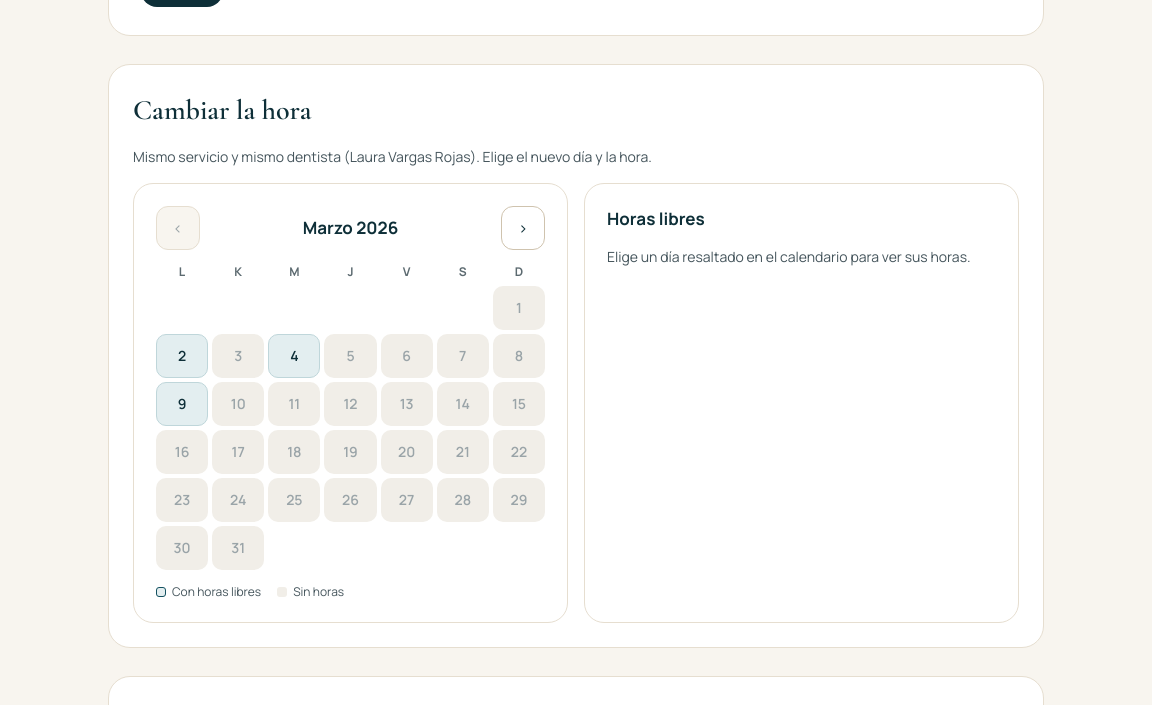
Scenario: Gestión de la cita por enlace › reprogramar con 400 muestra el mensaje
(page scrolled)
Click the button named "lunes 2 de marzo".
click(182, 356)  # box [156, 334, 208, 378]
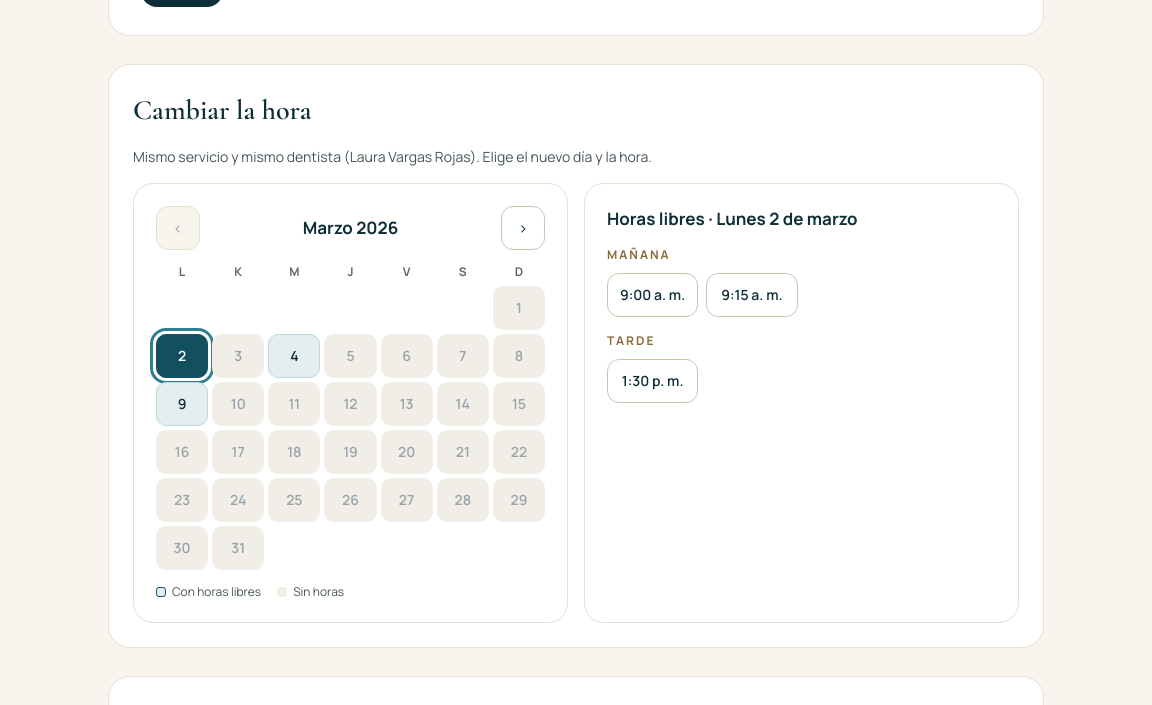
Click the button "9:00 a. m.".
click(653, 295)  # box [607, 273, 698, 317]
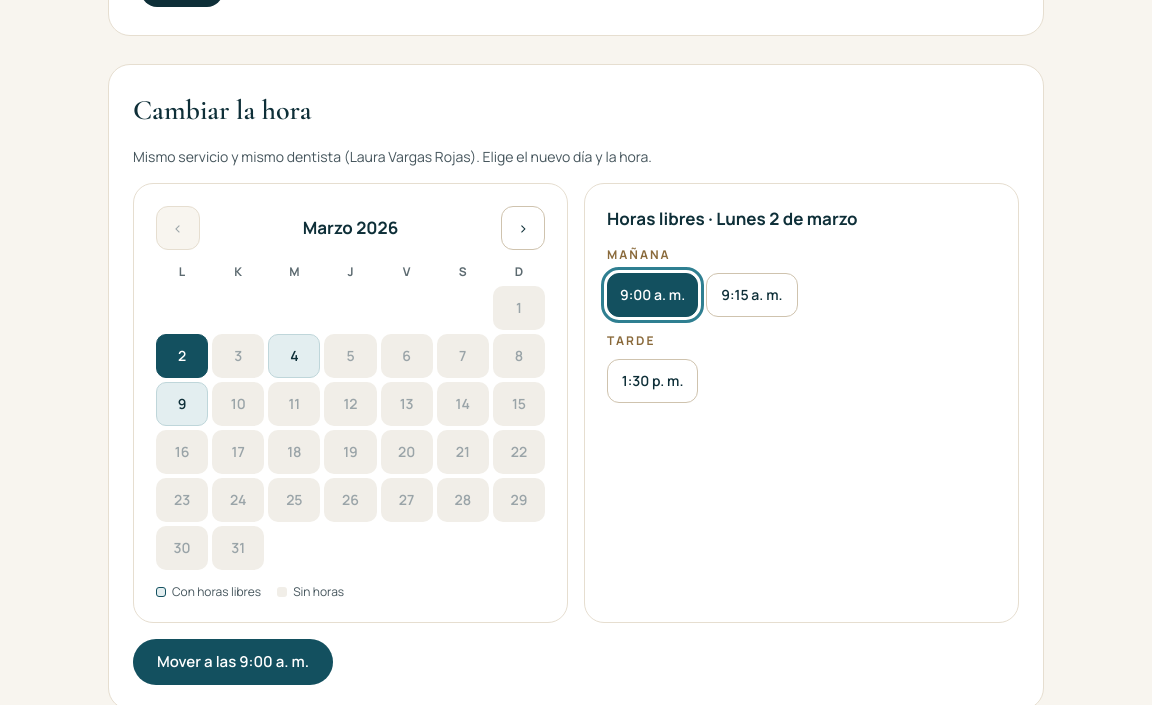
Click the button "Mover a las 9:00 a. m.".
click(233, 662)  # box [133, 639, 333, 685]
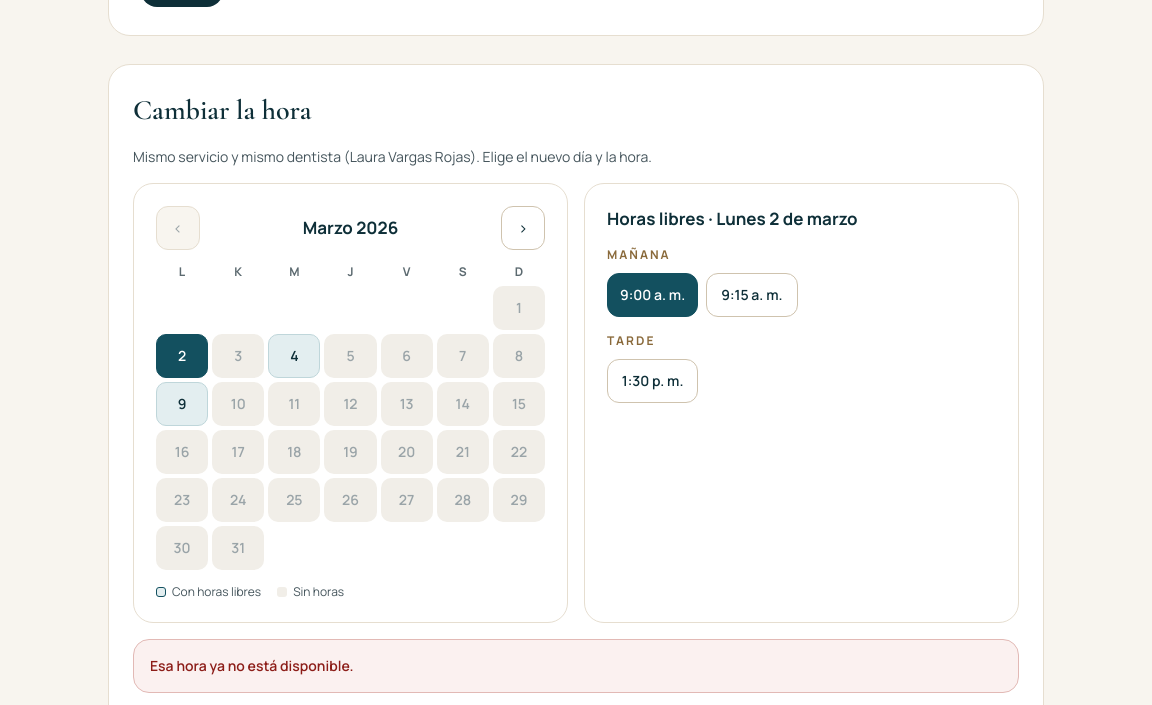
Expected: the message reads "Esa hora ya no está disponible.", [150, 656, 354, 675]
